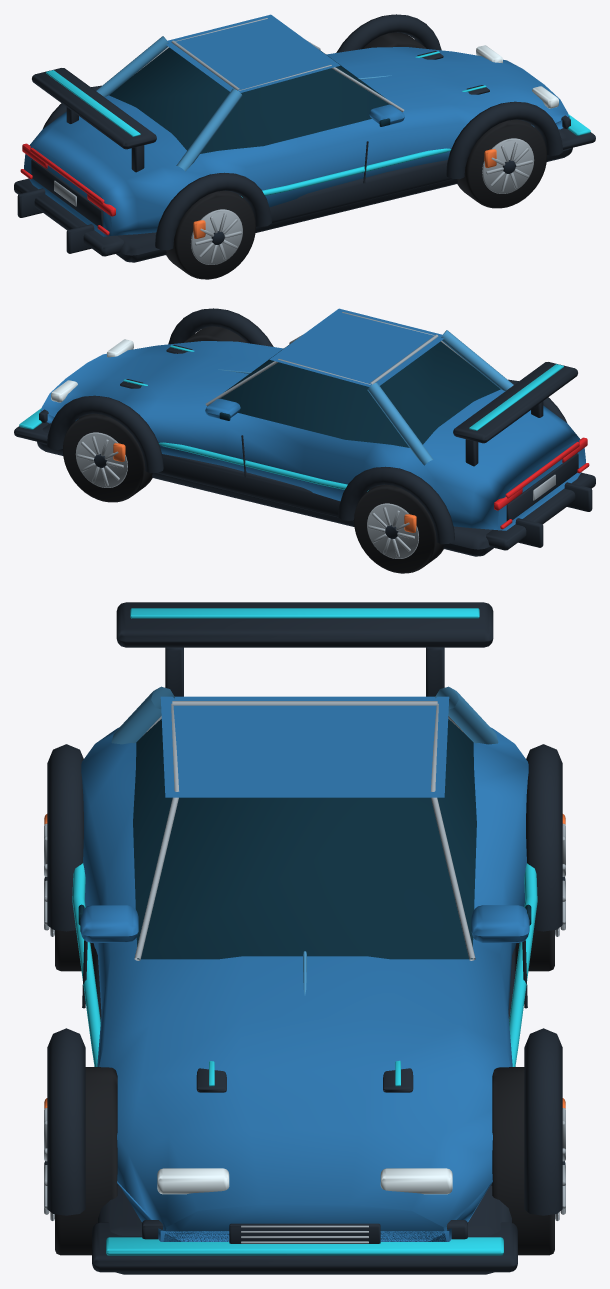
Rendered from kicklab-race-vehicle.glb.
The picture shows the model from 3 angles, top to bottom: view 1: azimuth 30°, elevation 25°; view 2: azimuth 150°, elevation 25°; view 3: azimuth 270°, elevation 25°; orthographic projection. The views are drawn at different scales.
Visible parts, largest first — view 1: sculpted blue body shell, fastback cabin glazing, painted floating roof, lower rocker left, front tire -1, rear tire -1, rear wheel-arch -1 0.49, front wheel-arch -1 0.49, rear aero wing, undertray / structural shadow, front wheel-arch 1 0.49, rear diffuser (+14 smaller); view 2: sculpted blue body shell, fastback cabin glazing, painted floating roof, lower rocker right, front tire 1, rear tire 1, rear wheel-arch 1 0.49, front wheel-arch 1 0.49, rear aero wing, undertray / structural shadow, front wheel-arch -1 0.49, rear diffuser (+14 smaller); view 3: sculpted blue body shell, fastback cabin glazing, painted floating roof, rear aero wing, front carbon splitter, front wheel-arch -1 0.49, front wheel-arch 1 0.49, front tire 1, front tire -1, rear wheel-arch -1 0.49, rear wheel-arch 1 0.49, nose chin cyan blade (+18 smaller).
Boxes of the visible parts, box(x1,y1,x2,y2) form: sculpted blue body shell: box(24, 47, 569, 236); fastback cabin glazing: box(109, 47, 389, 153); painted floating roof: box(165, 14, 340, 92); lower rocker left: box(256, 160, 452, 227); front tire -1: box(457, 119, 547, 208); rear tire -1: box(166, 190, 255, 279); rear wheel-arch -1 0.49: box(155, 172, 271, 250); front wheel-arch -1 0.49: box(446, 101, 562, 179); rear aero wing: box(32, 68, 156, 149); undertray / structural shadow: box(116, 129, 572, 262); front wheel-arch 1 0.49: box(336, 14, 441, 52); rear diffuser: box(14, 178, 123, 256); sculpted blue body shell: box(40, 341, 585, 530); fastback cabin glazing: box(220, 341, 500, 447); painted floating roof: box(269, 308, 444, 386); lower rocker right: box(157, 454, 353, 521); front tire 1: box(62, 413, 152, 502); rear tire 1: box(354, 484, 443, 573); rear wheel-arch 1 0.49: box(338, 466, 454, 544); front wheel-arch 1 0.49: box(47, 395, 163, 473); rear aero wing: box(453, 362, 577, 443); undertray / structural shadow: box(37, 423, 493, 556); front wheel-arch -1 0.49: box(168, 308, 273, 346); rear diffuser: box(486, 472, 595, 550); sculpted blue body shell: box(81, 727, 528, 1241); fastback cabin glazing: box(133, 719, 476, 959); painted floating roof: box(160, 696, 449, 797); rear aero wing: box(116, 602, 493, 647); front carbon splitter: box(92, 1222, 517, 1272); front wheel-arch -1 0.49: box(47, 1028, 85, 1215); front wheel-arch 1 0.49: box(524, 1028, 562, 1215); front tire 1: box(492, 1067, 554, 1255); front tire -1: box(55, 1067, 117, 1255); rear wheel-arch -1 0.49: box(47, 744, 83, 931); rear wheel-arch 1 0.49: box(526, 744, 562, 931); nose chin cyan blade: box(106, 1237, 503, 1255).
Size of the model in its own units: 4.98 by 1.52 by 2.24.
